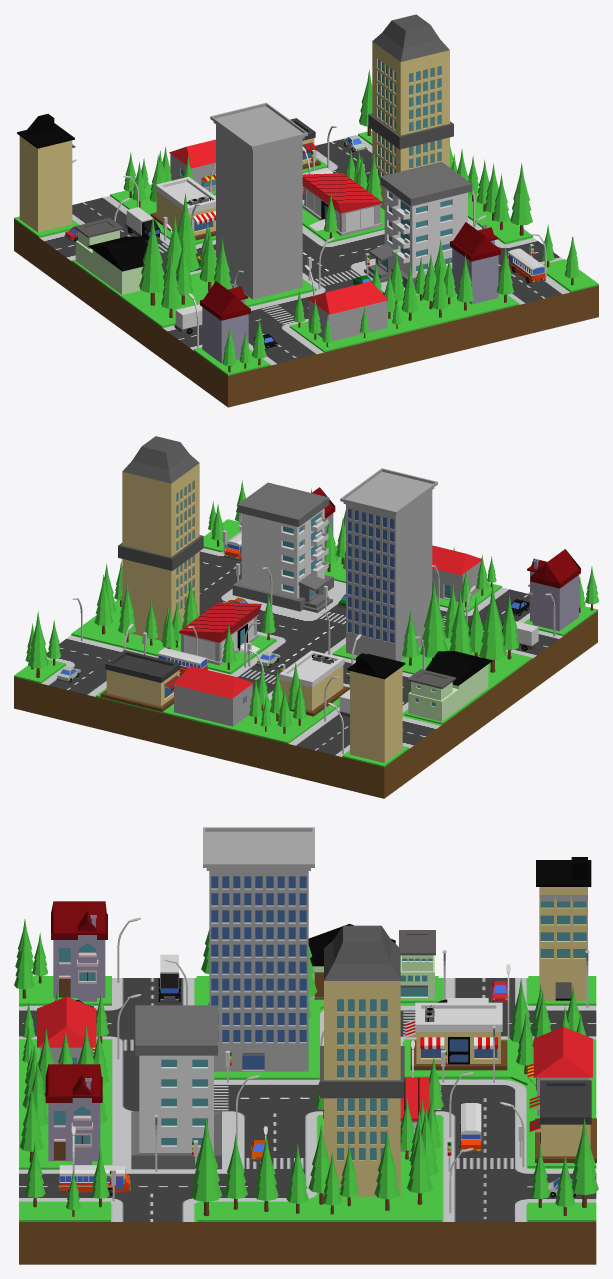
The model's file is city_low-poly.glb.
The picture shows the model from 3 angles, top to bottom: view 1: azimuth 30°, elevation 25°; view 2: azimuth 150°, elevation 25°; view 3: azimuth 270°, elevation 25°; orthographic projection. The views are drawn at different scales.
Parts seen in each view (by area): view 1: Ground_0, Building3.001_3, Building6_6, Plane.006_28, House_2_11, Building9_7, FireStation_5, Shop_9, Building4.001_8, House4.001_12, House4_10, dinner_15 (+12 smaller); view 2: Ground_0, Building3.001_3, Building6_6, House_2_11, Plane.006_28, Building9_7, FireStation_5, Building4_4, dinner 2_16, House4.001_12, Shop_9, dinner_15 (+12 smaller); view 3: Ground_0, Building3.001_3, Plane.006_28, Building6_6, House_2_11, Building9_7, dinner_15, House4_10, House4.001_12, dinner 2_16, FireStation_5, Building4_4 (+23 smaller).
Boxes of the visible parts, bbox=[...] form: Ground_0: bbox=[14, 135, 598, 407]; Building3.001_3: bbox=[210, 102, 307, 299]; Building6_6: bbox=[368, 14, 453, 209]; Plane.006_28: bbox=[14, 130, 598, 375]; House_2_11: bbox=[364, 161, 472, 287]; Building9_7: bbox=[17, 114, 75, 232]; FireStation_5: bbox=[74, 218, 147, 294]; Shop_9: bbox=[302, 173, 381, 236]; Building4.001_8: bbox=[308, 281, 388, 341]; House4.001_12: bbox=[200, 281, 250, 363]; House4_10: bbox=[450, 222, 500, 304]; dinner_15: bbox=[150, 176, 215, 240]; Ground_0: bbox=[14, 548, 597, 798]; Building3.001_3: bbox=[340, 468, 437, 661]; Building6_6: bbox=[118, 436, 203, 640]; House_2_11: bbox=[232, 482, 333, 612]; Plane.006_28: bbox=[14, 519, 597, 767]; Building9_7: bbox=[346, 653, 405, 762]; FireStation_5: bbox=[407, 651, 492, 721]; Building4_4: bbox=[173, 666, 253, 726]; dinner 2_16: bbox=[100, 650, 180, 711]; House4.001_12: bbox=[527, 549, 580, 631]; Shop_9: bbox=[179, 602, 261, 665]; dinner_15: bbox=[274, 650, 349, 716]; Ground_0: bbox=[19, 978, 596, 1264]; Building3.001_3: bbox=[203, 827, 314, 1071]; Plane.006_28: bbox=[19, 976, 596, 1221]; Building6_6: bbox=[320, 925, 404, 1196]; House_2_11: bbox=[131, 1005, 221, 1169]; Building9_7: bbox=[536, 857, 591, 1000]; dinner_15: bbox=[405, 1002, 507, 1070]; House4_10: bbox=[45, 1064, 102, 1164]; House4.001_12: bbox=[51, 901, 107, 1001]; dinner 2_16: bbox=[529, 1080, 596, 1162]; FireStation_5: bbox=[308, 924, 435, 999]; Building4_4: bbox=[527, 1026, 592, 1116].
Size of the model in its own units: 30.41 by 16.69 by 30.4.
38 materials, 1 textured.
